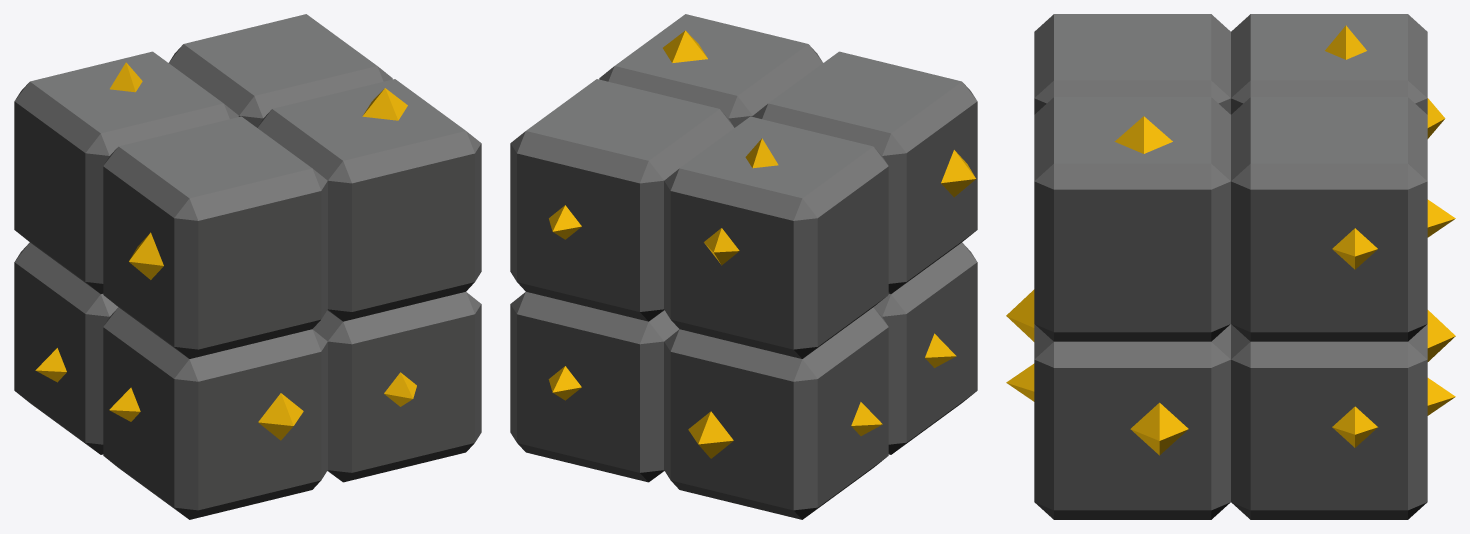
File: m_kub_ore_miniCubePile.FBX
3 views of the same model, side by side, from view 1: azimuth 30°, elevation 25°; view 2: azimuth 150°, elevation 25°; view 3: azimuth 270°, elevation 25° (orthographic). The views are drawn at different scales.
Visible parts, largest first — view 1: m_kub_ore_miniCubePile; view 2: m_kub_ore_miniCubePile; view 3: m_kub_ore_miniCubePile.
Boxes of the visible parts, <box> form: m_kub_ore_miniCubePile: <box>14,14,481,519</box>; m_kub_ore_miniCubePile: <box>510,14,977,519</box>; m_kub_ore_miniCubePile: <box>1006,14,1455,519</box>.
Bounding box in the file's own units: 2.29 × 2.14 × 2.29.
